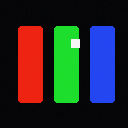1 square: (71, 39, 79, 47)
